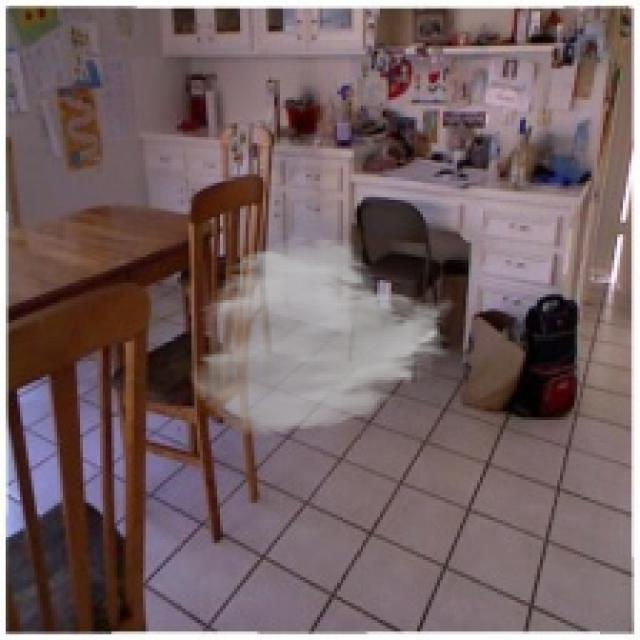smoke: (186, 234, 460, 437)
